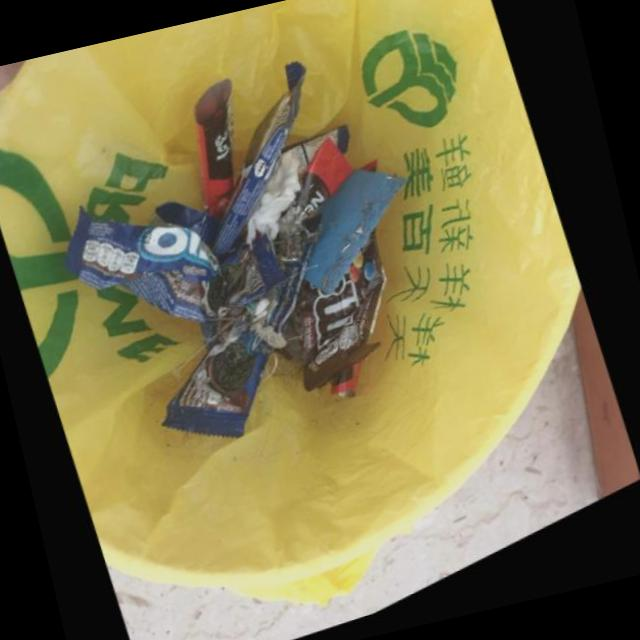bao_bi_thuc_pham: (170, 219, 328, 440), (69, 203, 291, 359), (212, 66, 310, 266), (288, 238, 393, 391), (286, 131, 356, 179)
giay: (252, 156, 307, 253)
goi_nhua_nho: (287, 143, 360, 228), (197, 82, 241, 222)
